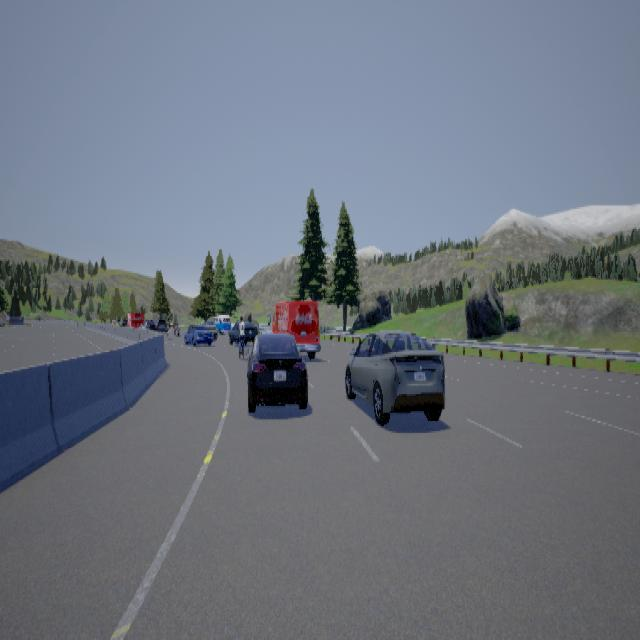vehicle: (344, 328, 444, 424), (243, 300, 320, 411), (183, 314, 238, 346), (117, 312, 166, 332)
